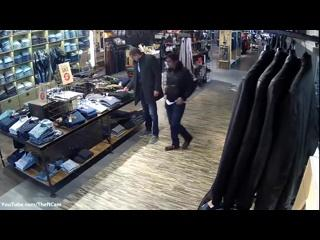Normal: (197, 41, 319, 208), (124, 47, 164, 144), (163, 52, 197, 152)
